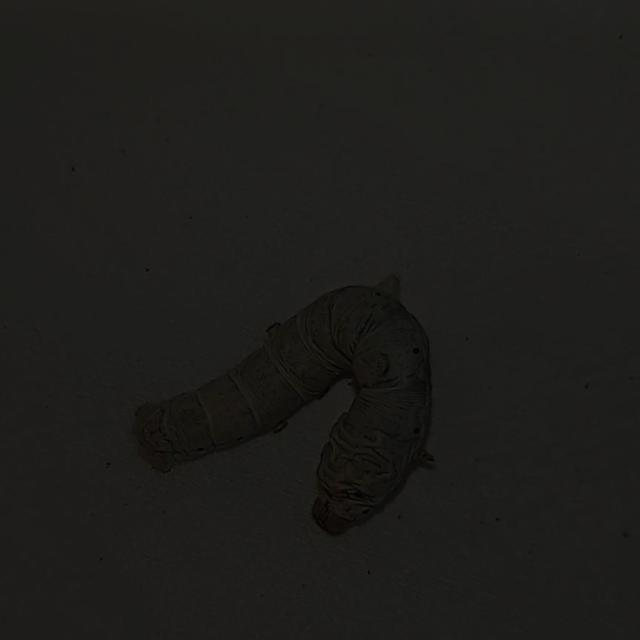Healthy: (104, 242, 465, 561)
